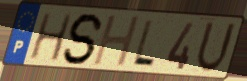4: (163, 19, 195, 72)
H: (90, 15, 143, 68), (27, 12, 74, 63)
L: (129, 18, 157, 69)
S: (61, 11, 106, 66)
U: (192, 19, 238, 76)
